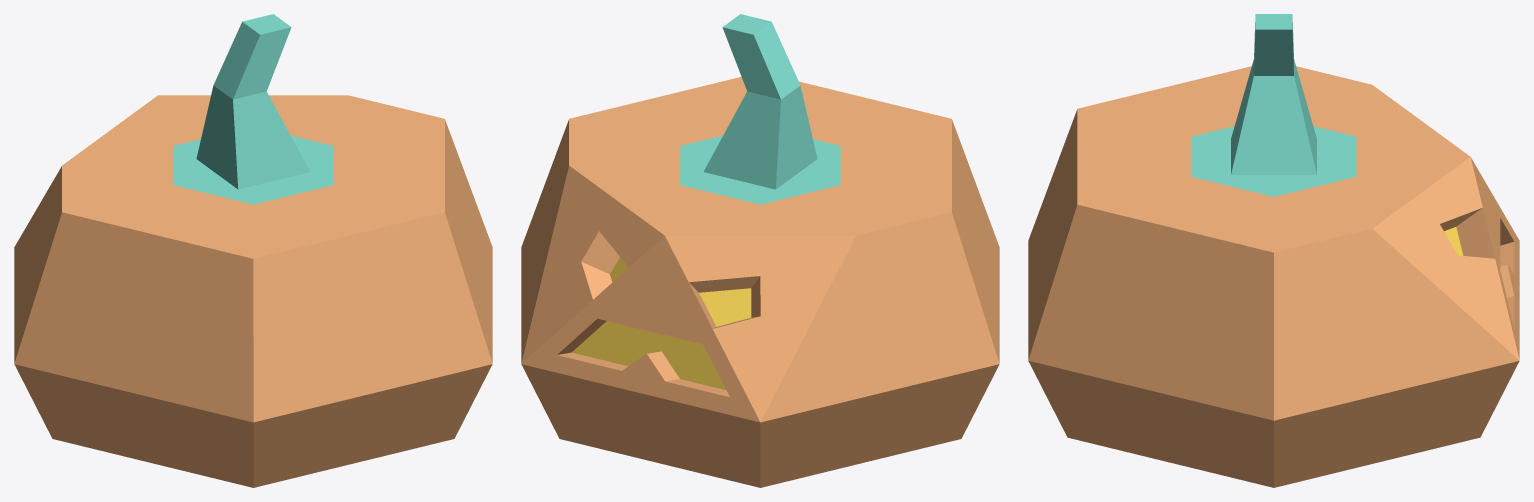
File: pumpkinCarved.glb
3 renders of one model, left to right at view 1: azimuth 30°, elevation 25°; view 2: azimuth 150°, elevation 25°; view 3: azimuth 270°, elevation 25°, orthographic. The views are drawn at different scales.
Parts seen in each view (by area): view 1: pumpkinCarved; view 2: pumpkinCarved; view 3: pumpkinCarved.
Part boxes in pixels (box(x1,y1,x2,y2)): pumpkinCarved: box(14, 14, 492, 487); pumpkinCarved: box(521, 14, 999, 487); pumpkinCarved: box(1028, 14, 1519, 487).
Size of the model in its own units: 0.357 by 0.2583 by 0.3092.
